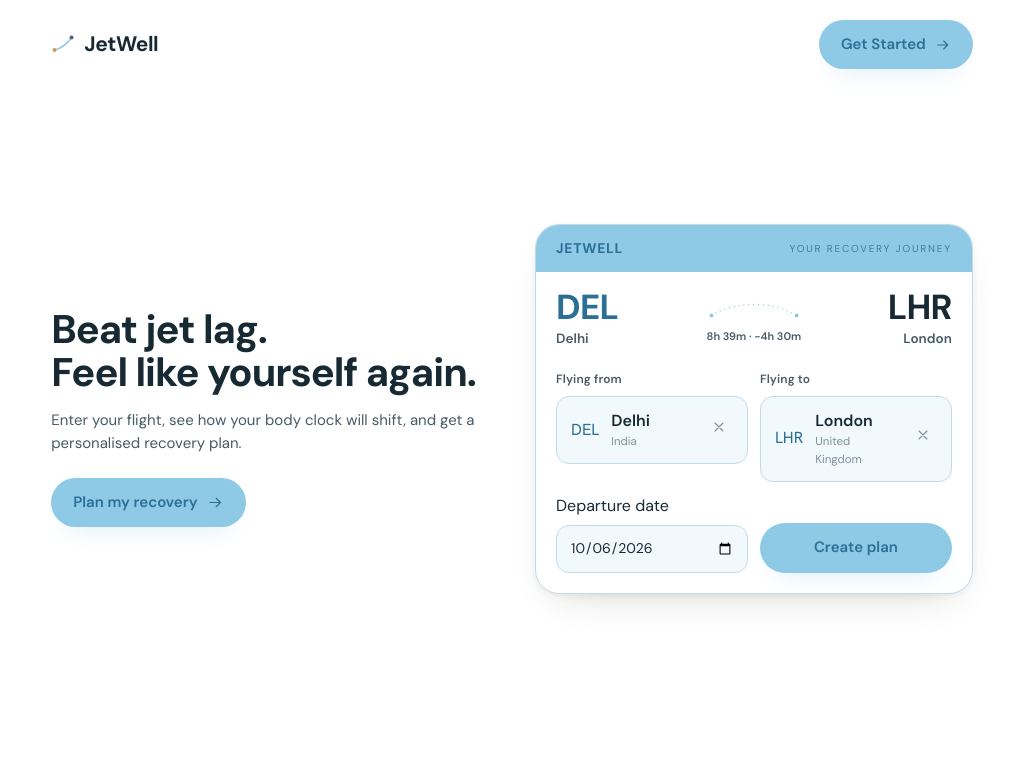
it: app smoke tests › has working primary navigation
The width and height of the screenshot is (1024, 766).
Click the button "Get Started" at (896, 45), box [819,20,973,69]
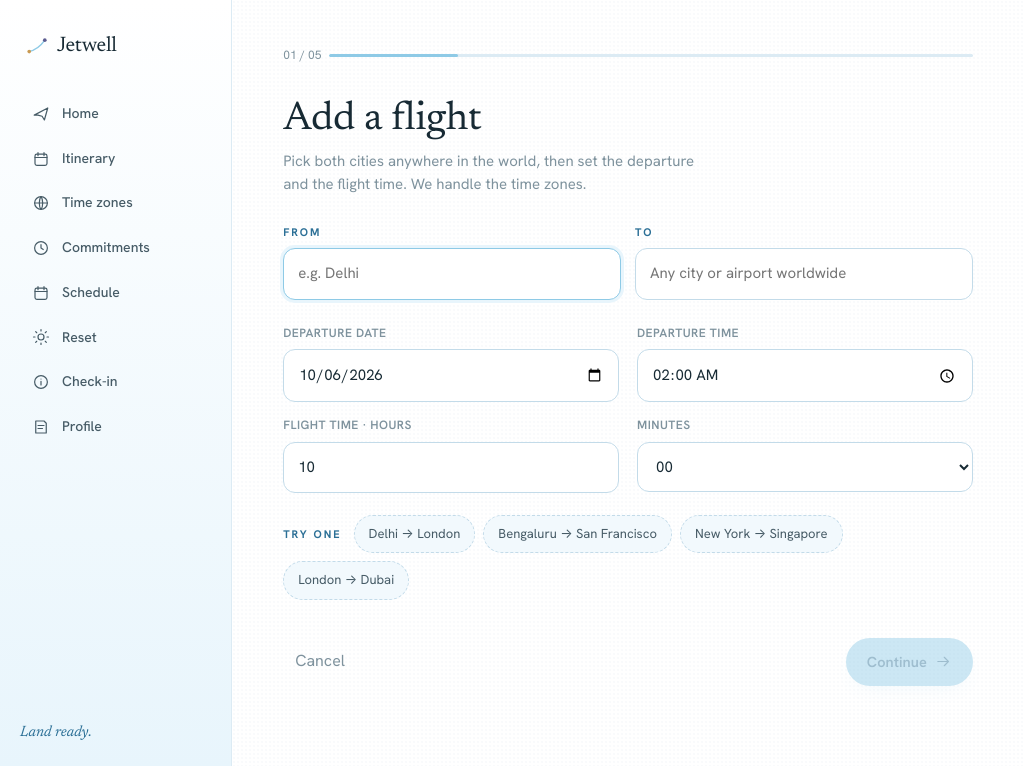
Click the button "Schedule" at (116, 293), box [20,272,211,314]
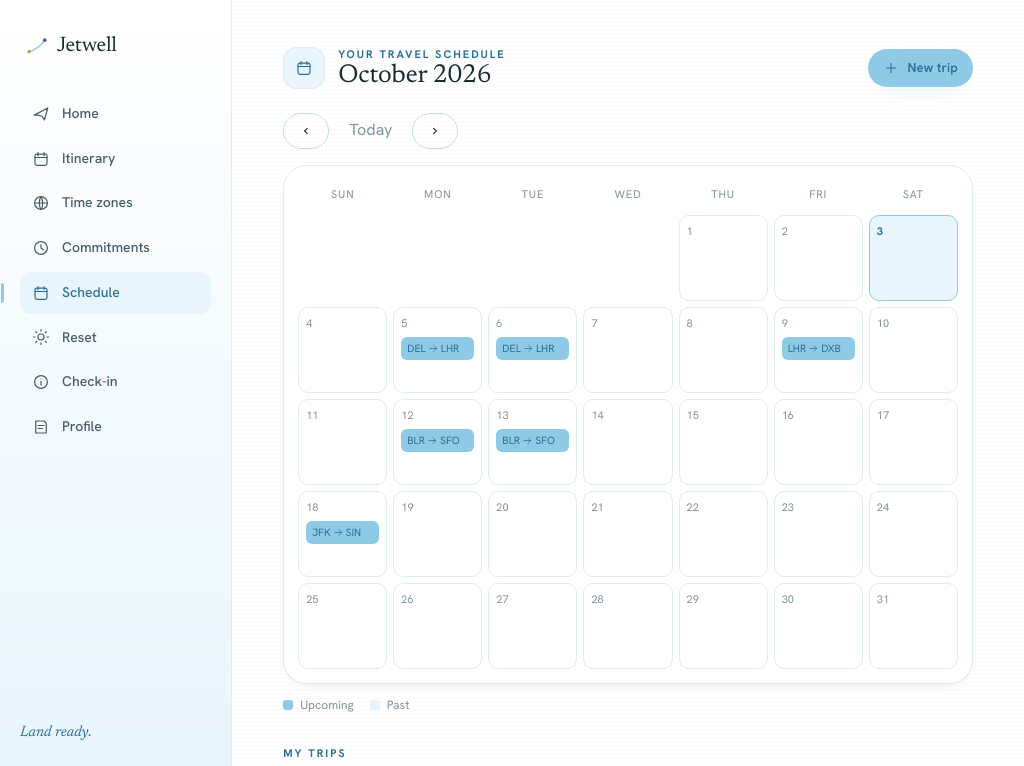
expect the text "Your travel schedule" is shown: met, box [338,46,506,63]
